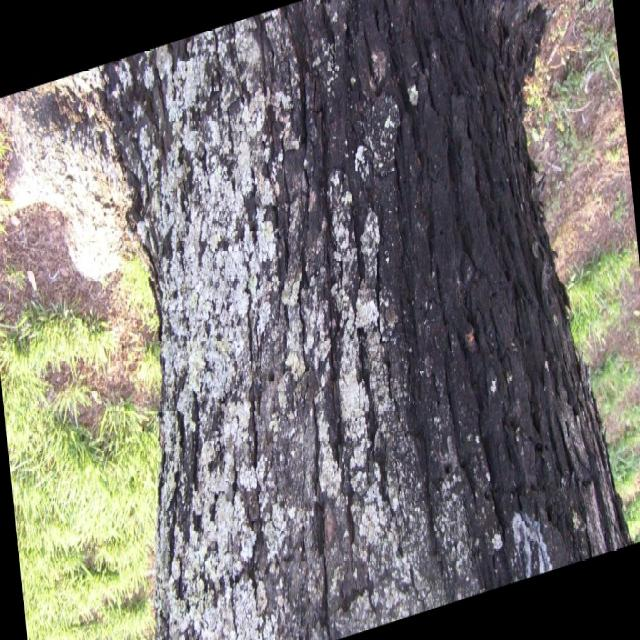Sooty Mold: (100, 0, 605, 640)
